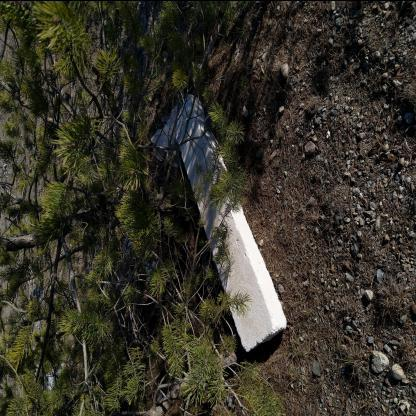kopuk: (176, 94, 288, 352)
